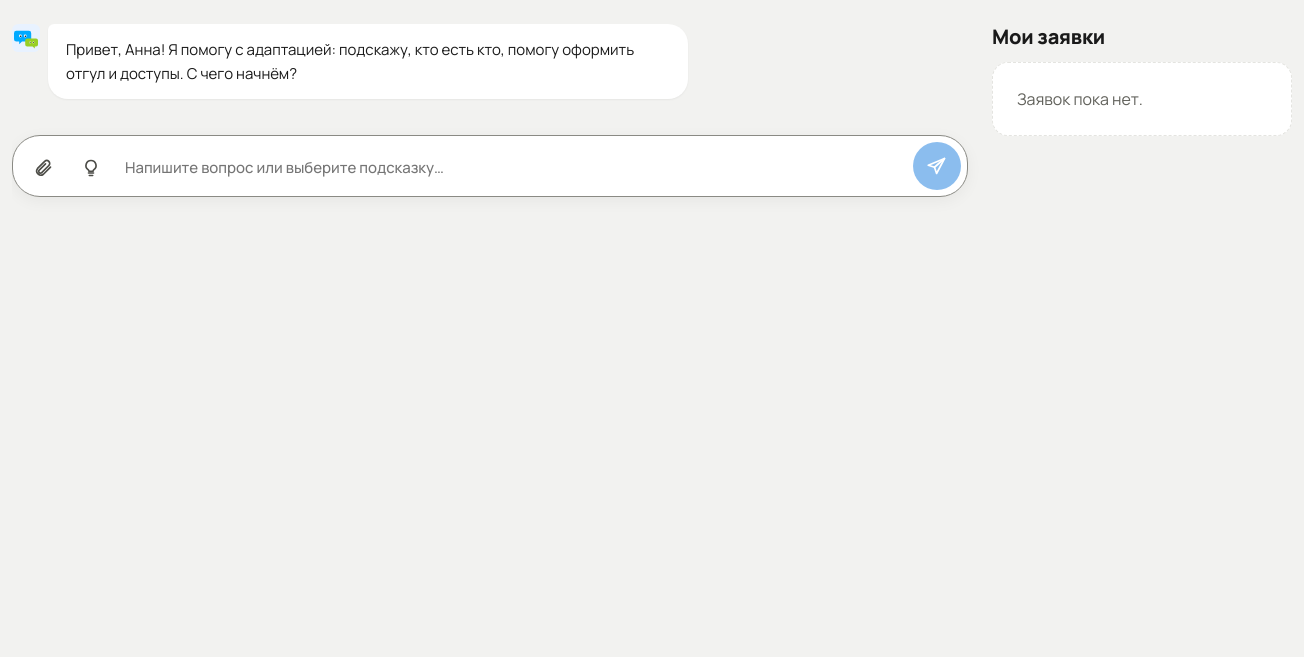
S3 day off flow › R79: a double click on "Отправить" creates exactly one request
This screenshot has width=1304, height=657.
Type "хочу отгул в пятницу" into the dropdown named "Сообщение" at {"x": 513, "y": 168}, box [117,147,909,190]
Then press Enter
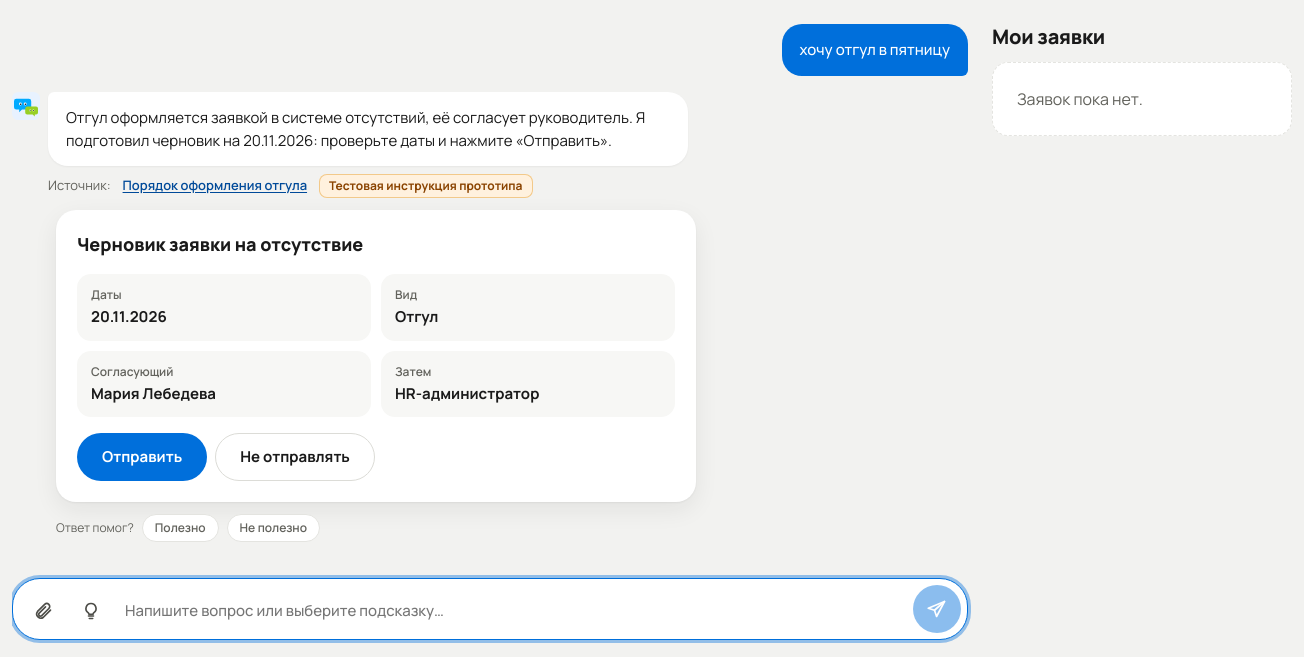
Double-click the button "Отправить" at {"x": 142, "y": 457}, box [77,433,207,481]
(page scrolled)
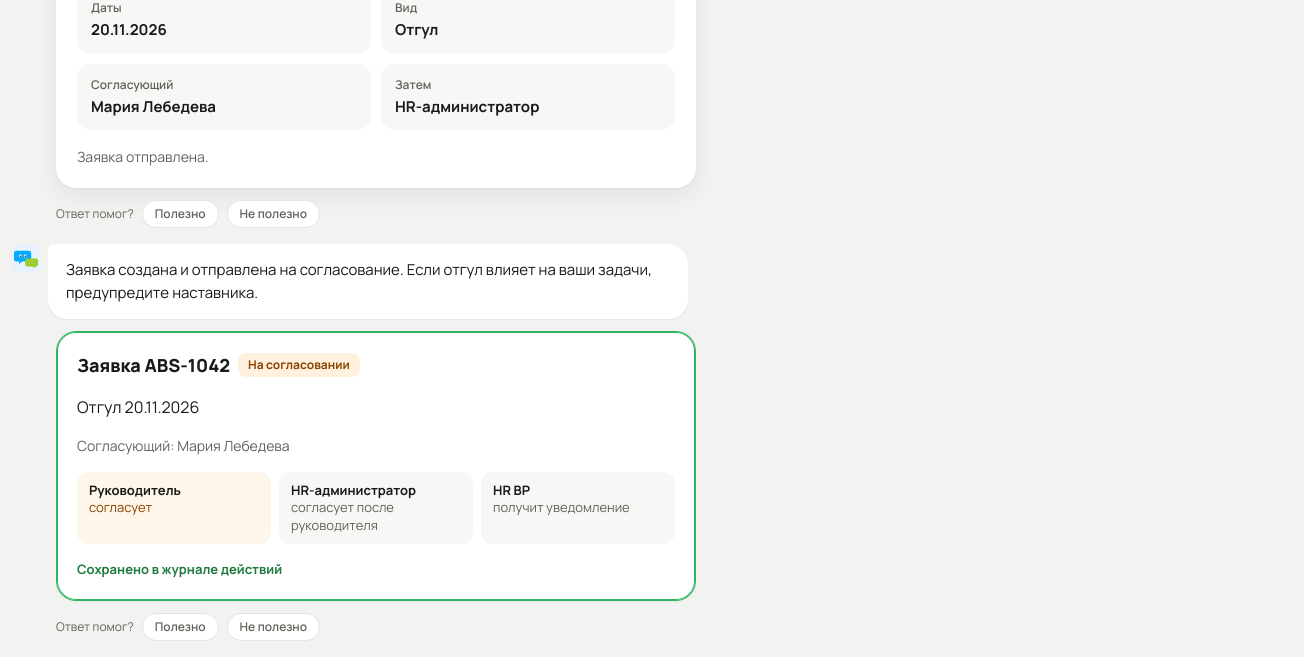
Expected: the element named "Результат заявки" is shown, [56,331,696,601]
